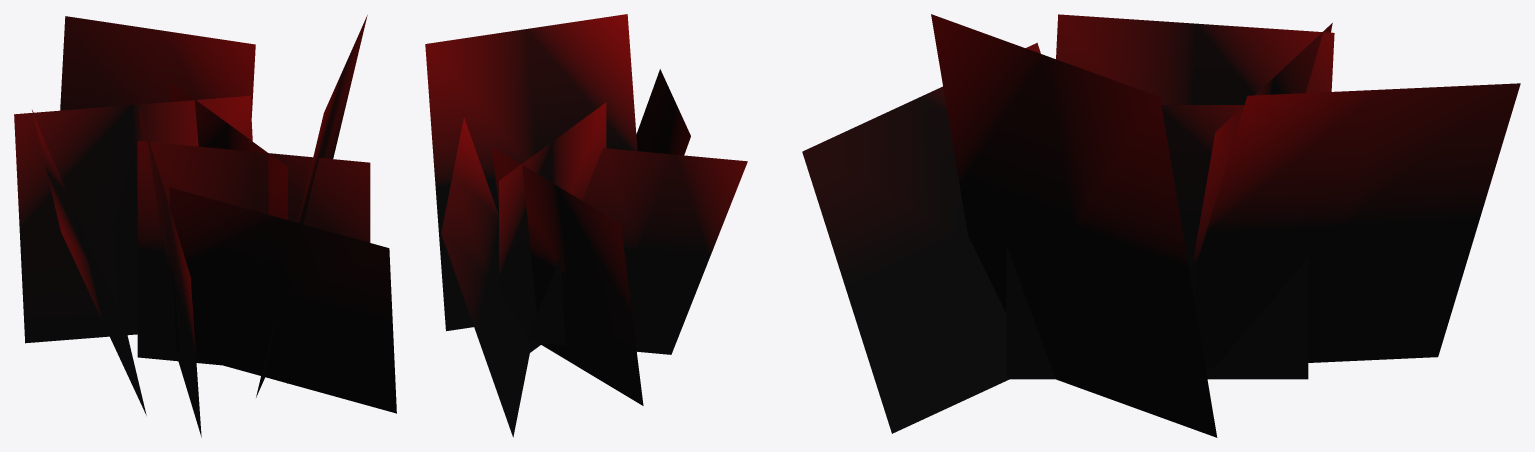
The model's file is Mesh_red_small.fbx.
3 views of the same model, side by side, from view 1: azimuth 30°, elevation 25°; view 2: azimuth 150°, elevation 25°; view 3: azimuth 270°, elevation 25° (orthographic). The views are drawn at different scales.
Visible parts, largest first — view 1: Mesh_grass002; view 2: Mesh_grass002; view 3: Mesh_grass002.
Part boxes in pixels (x1,y1,x2,y2): Mesh_grass002: (14, 15, 396, 437); Mesh_grass002: (425, 14, 747, 437); Mesh_grass002: (802, 14, 1520, 437).
Bounding box in the file's own units: 67.96 × 61.96 × 96.26.
